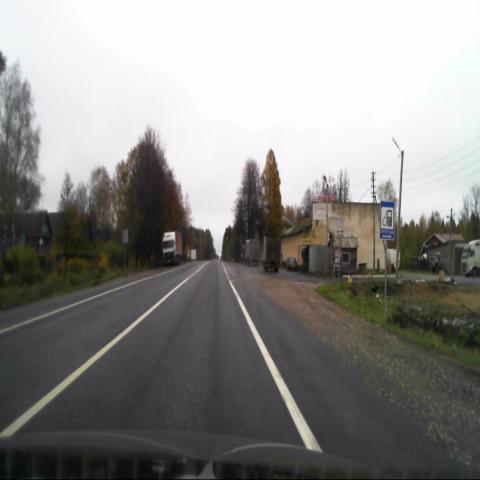7_3: (380, 200, 394, 240)
